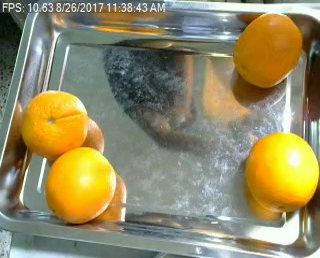Orange: (244, 132, 319, 213), (46, 146, 117, 223), (233, 12, 303, 88), (20, 89, 88, 158)
